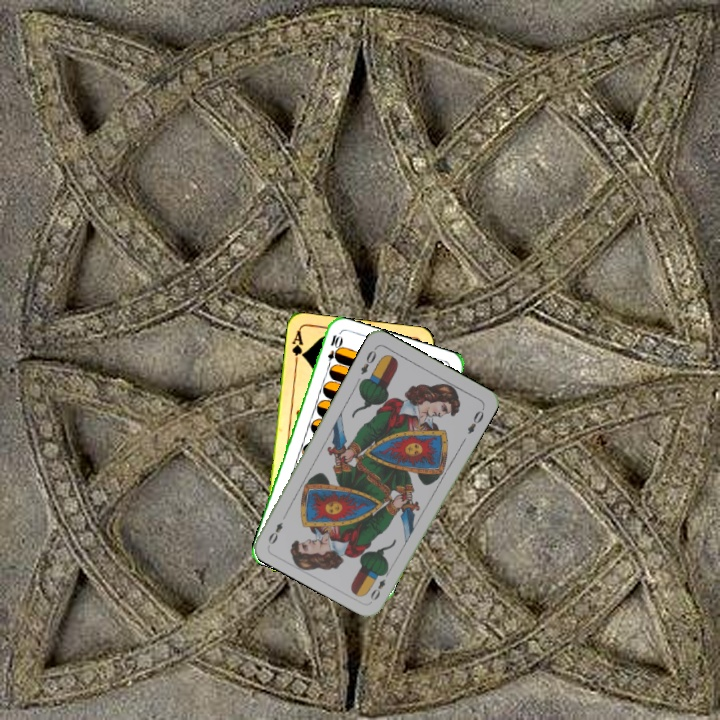E10: (323, 330, 343, 371)
EO: (366, 566, 393, 603), (357, 343, 379, 377)
GA: (288, 327, 307, 367)
